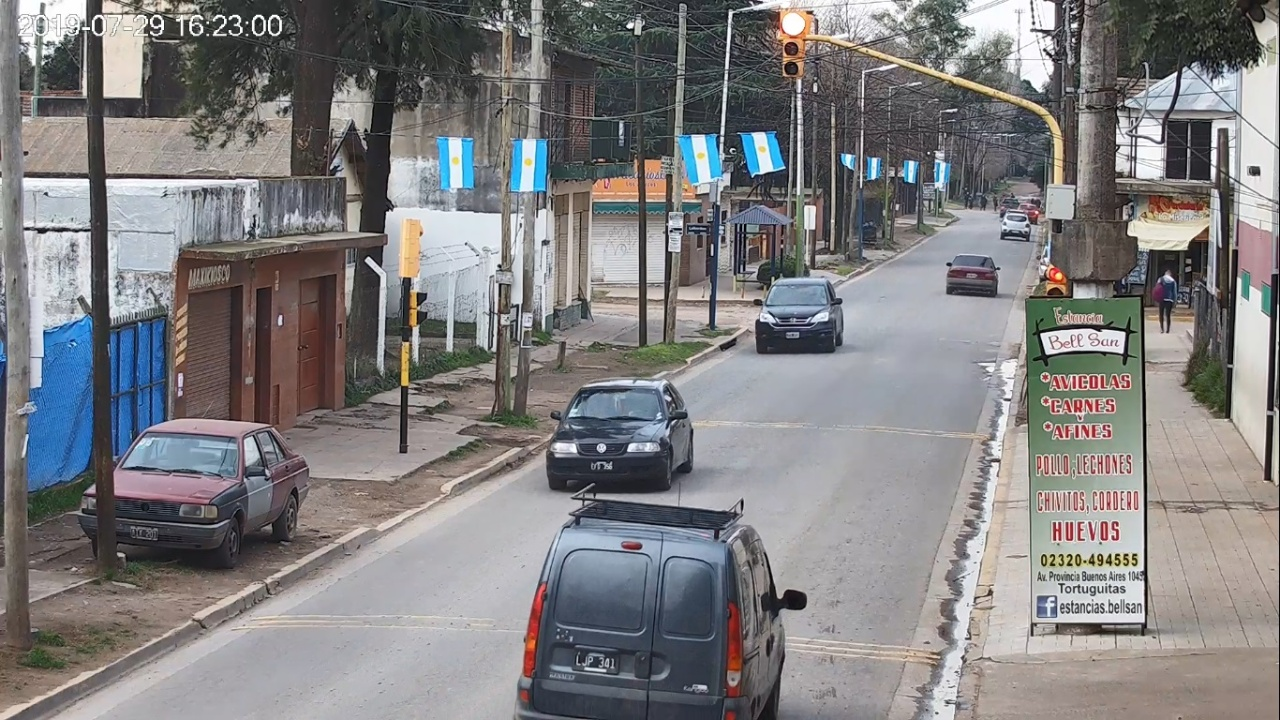car: (515, 484, 807, 720), (946, 254, 1001, 297)
front car: (546, 378, 694, 489), (754, 278, 844, 354)
traffic light: (782, 10, 804, 76)
